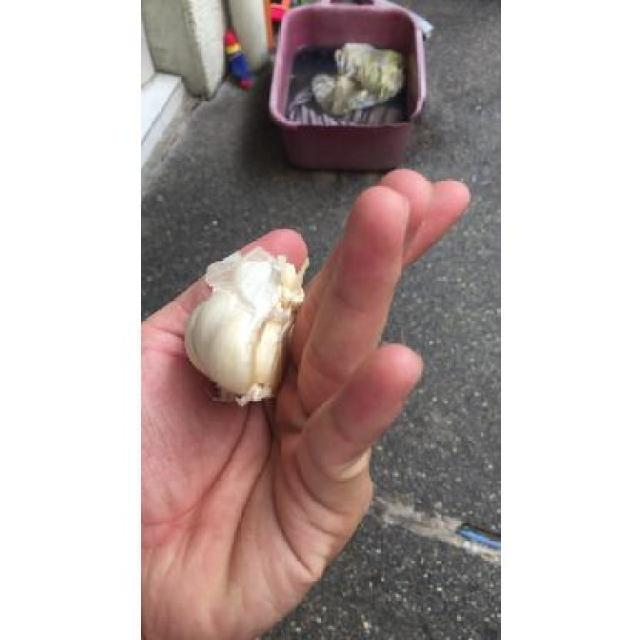Garlic: (178, 250, 322, 412)
